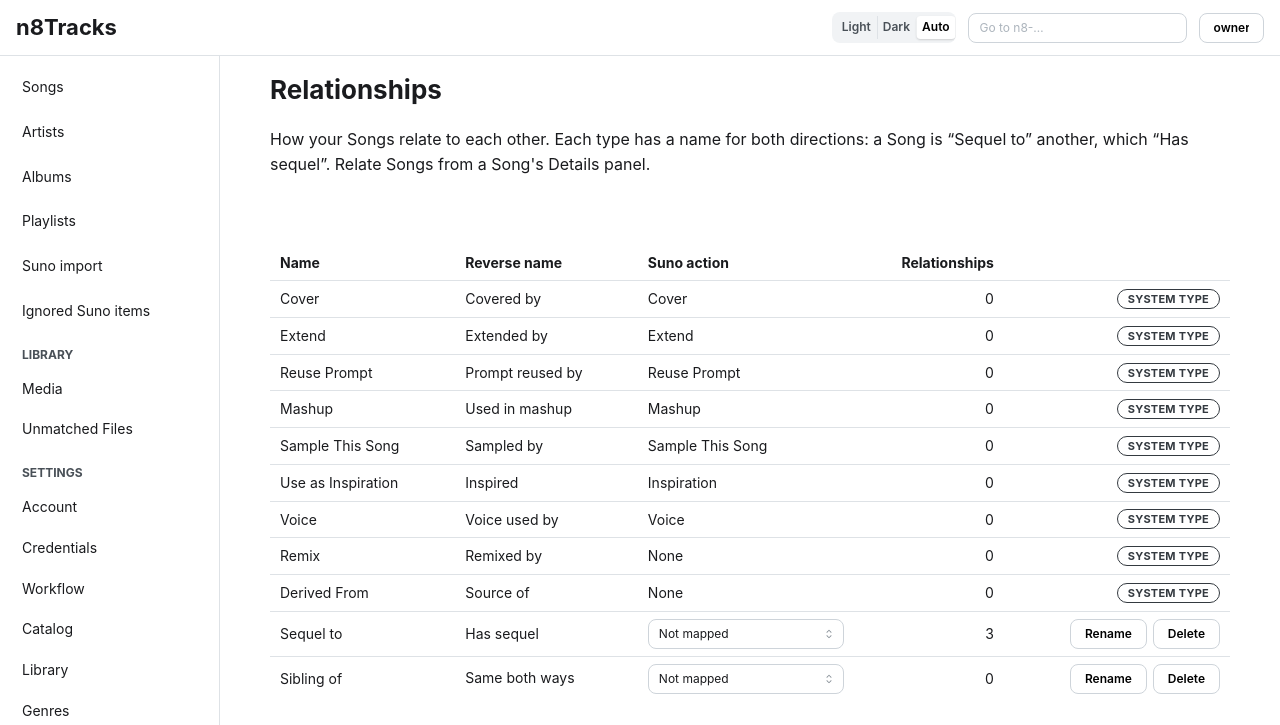
Test: Settings → Relationships › deletes an unused type directly, and one in use only after confirming how many relationships go
The width and height of the screenshot is (1280, 725).
expect the heading "Relationships" is shown: met, box [270,74,442,105]
Click the button with aria-label "Delete Sibling of".
click(1186, 679)  # box [1153,664,1220,694]
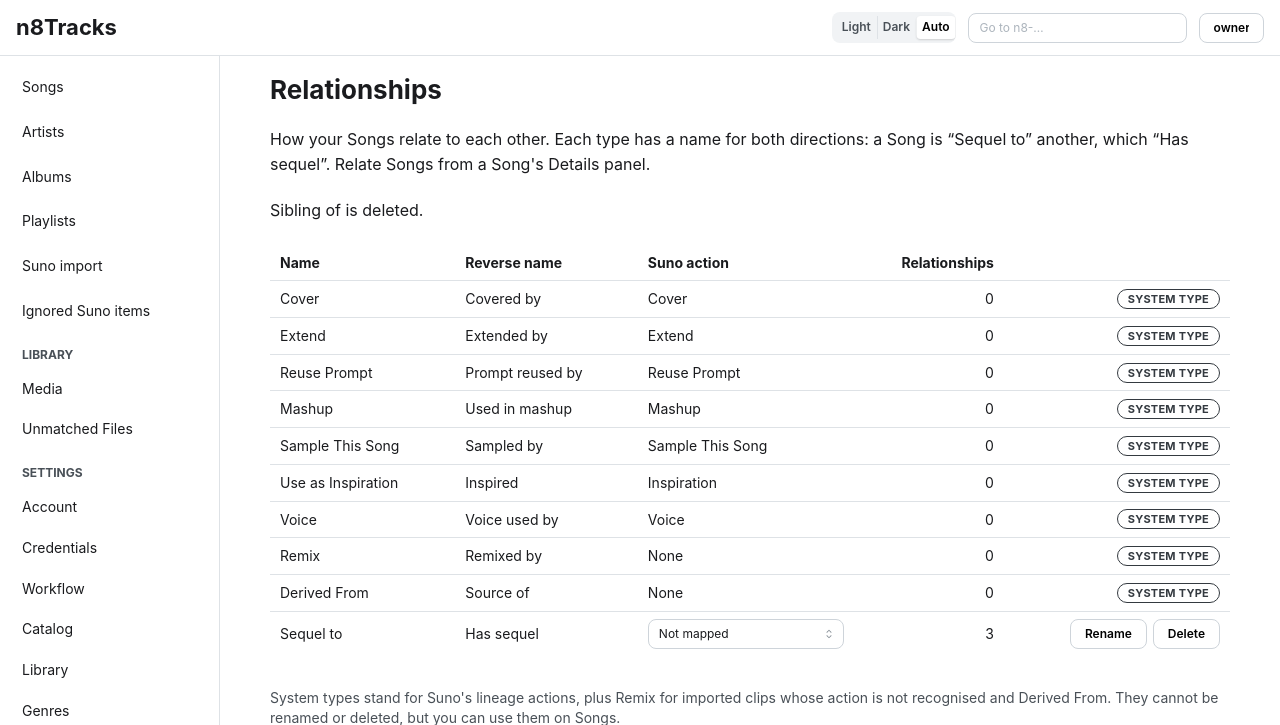
expect the text "Sibling of is deleted." is shown: met, box [270,198,423,223]
Click the button with aria-label "Delete Sequel to".
click(1186, 634)  # box [1153,619,1220,649]
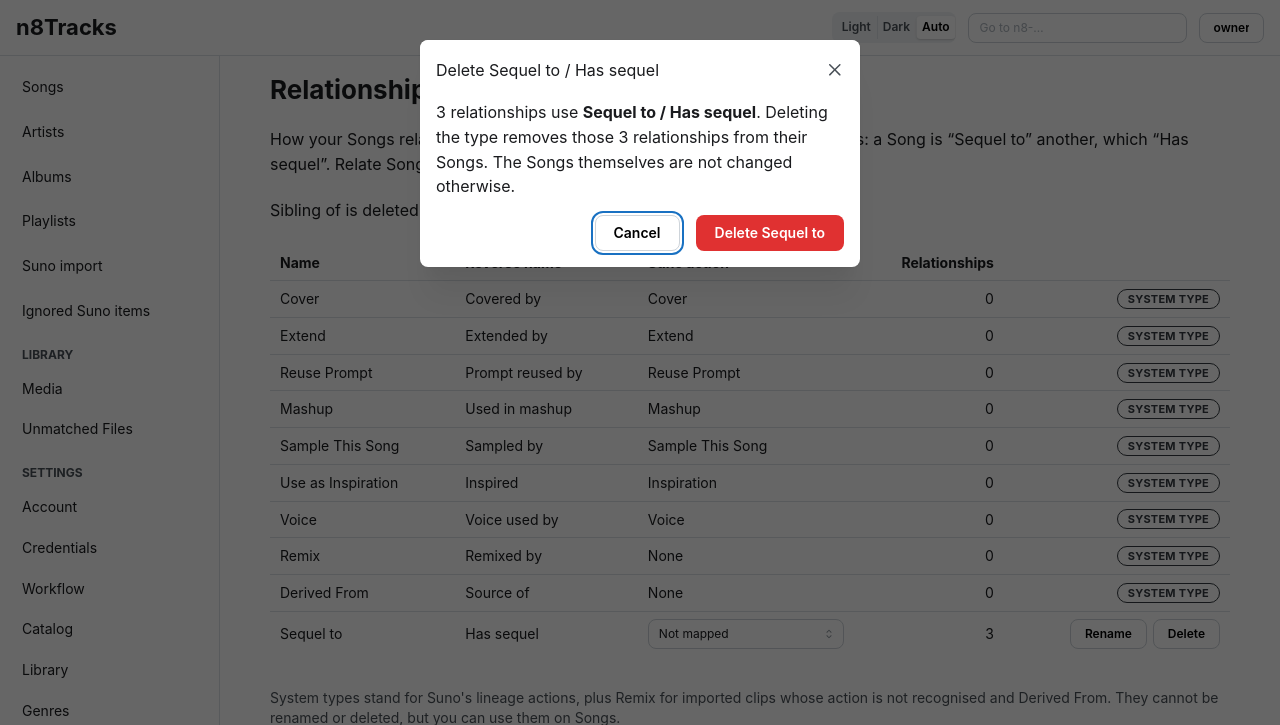
expect the element with test id "delete-summary" shows "3 relationships use Sequel to / Has sequel. Deleting the type removes those 3 relationships from their Songs.": met, box [436,100,844,199]
Click the button "Delete Sequel to".
click(770, 233)  # box [696,215,844,251]
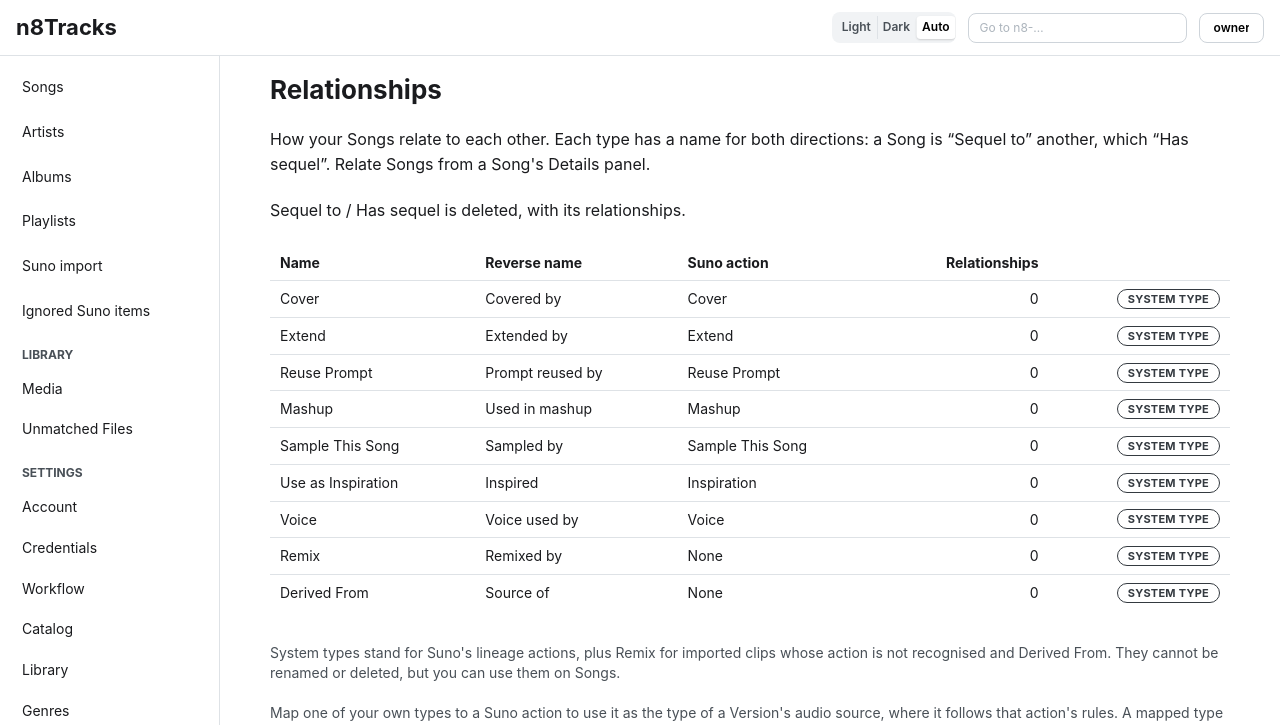
expect the text "Sequel to / Has sequel is deleted, with its relationships." is shown: met, box [270,198,686,223]
